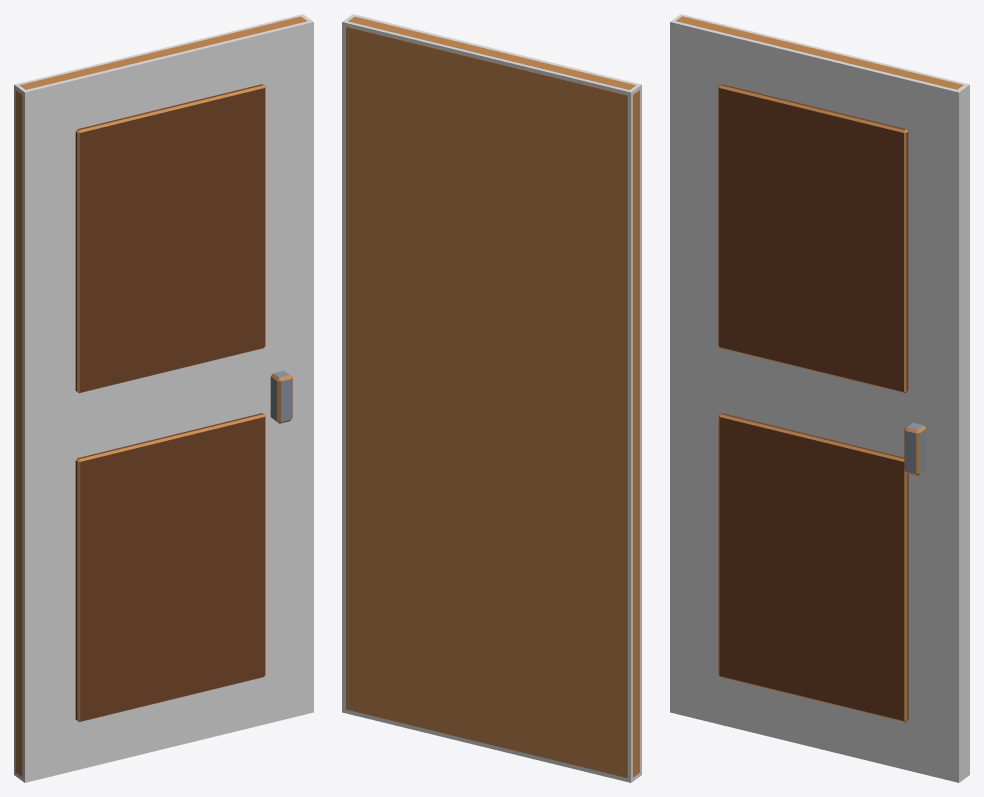
File: bld_door_a.glb
The picture shows the model from 3 angles, left to right: view 1: azimuth 30°, elevation 25°; view 2: azimuth 150°, elevation 25°; view 3: azimuth 330°, elevation 25°; orthographic projection.
Visible parts, largest first — view 1: bld_door_a, COL_bld_door_a_1; view 2: bld_door_a, COL_bld_door_a_1; view 3: COL_bld_door_a_1, bld_door_a.
Boxes of the visible parts, left/top/right/bottom form: bld_door_a: left=15, top=16, right=307, bottom=777; COL_bld_door_a_1: left=14, top=14, right=313, bottom=782; bld_door_a: left=346, top=16, right=639, bottom=777; COL_bld_door_a_1: left=342, top=14, right=641, bottom=782; COL_bld_door_a_1: left=670, top=14, right=969, bottom=782; bld_door_a: left=676, top=16, right=963, bottom=722.
Size of the model in its own units: 0.921 by 2.1 by 0.1171.
